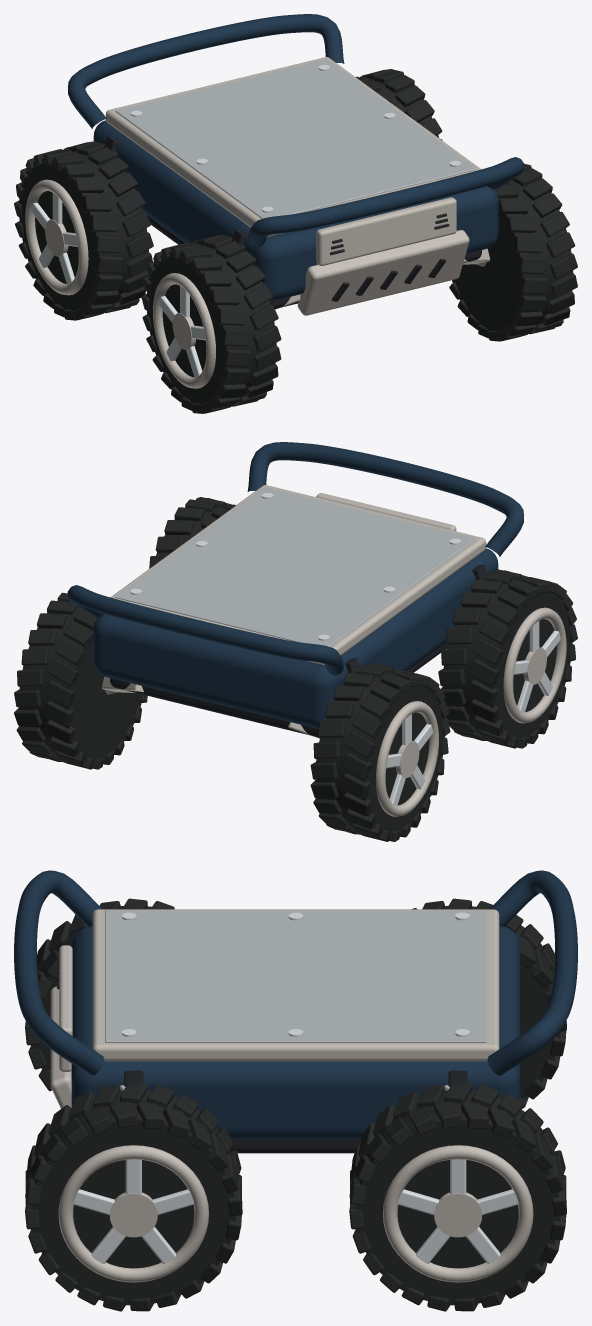
The model's file is robots-13.glb.
The picture shows the model from 3 angles, top to bottom: view 1: azimuth 30°, elevation 25°; view 2: azimuth 150°, elevation 25°; view 3: azimuth 270°, elevation 25°; orthographic projection. The views are drawn at different scales.
Visible parts, largest first — view 1: tires, deck, chassis, bumpers, hubs, skid, nose; view 2: tires, deck, chassis, bumpers, hubs, nose; view 3: tires, deck, chassis, hubs, bumpers, nose, skid, suspension.
Part boxes in pixels (left/top/right/bottom): tires: left=14, top=69, right=577, bottom=413; deck: left=105, top=57, right=481, bottom=236; chassis: left=93, top=120, right=498, bottom=308; bumpers: left=68, top=14, right=524, bottom=247; hubs: left=25, top=179, right=215, bottom=388; skid: left=297, top=230, right=469, bottom=315; nose: left=316, top=197, right=456, bottom=265; tires: left=14, top=497, right=577, bottom=841; deck: left=110, top=485, right=486, bottom=664; chassis: left=93, top=548, right=498, bottom=737; bumpers: left=67, top=442, right=523, bottom=675; hubs: left=376, top=607, right=566, bottom=816; nose: left=316, top=493, right=456, bottom=531; tires: left=25, top=898, right=566, bottom=1311; deck: left=92, top=909, right=499, bottom=1061; chassis: left=71, top=926, right=520, bottom=1153; hubs: left=58, top=1145, right=533, bottom=1282; bumpers: left=14, top=870, right=577, bottom=1075; nose: left=57, top=945, right=72, bottom=1071; skid: left=50, top=986, right=71, bottom=1108; suspension: left=120, top=1070, right=467, bottom=1090.
Size of the model in its own units: 2.37 by 1.3 by 2.54.
